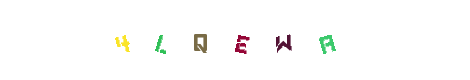4: (83, 0, 163, 80)
A: (232, 0, 312, 80)
E: (209, 0, 289, 80)
L: (165, 0, 245, 80)
Q: (195, 0, 275, 80)
W: (222, 0, 302, 80)
